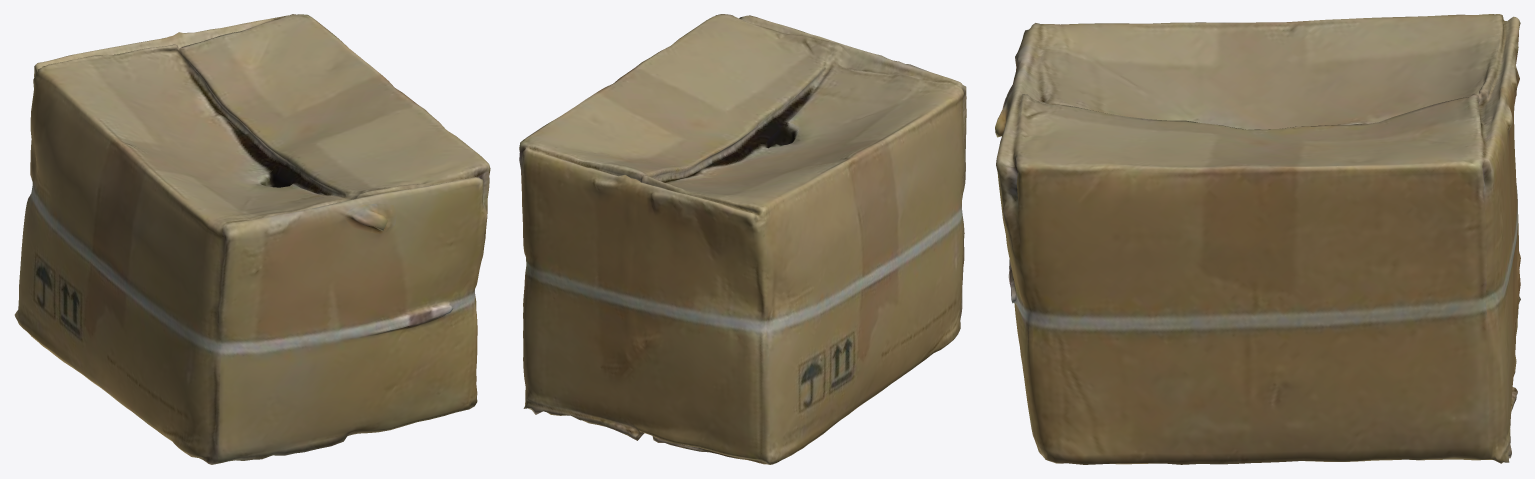
The model's file is cardboard_box.l.8f5a09d0.glb.
The picture shows the model from 3 angles, left to right: view 1: azimuth 30°, elevation 25°; view 2: azimuth 150°, elevation 25°; view 3: azimuth 270°, elevation 25°; orthographic projection. The views are drawn at different scales.
Parts seen in each view (by area): view 1: cardboard_box_01; view 2: cardboard_box_01; view 3: cardboard_box_01.
Part boxes in pixels (<box>): cardboard_box_01: <box>14,14,490,464</box>; cardboard_box_01: <box>519,14,966,464</box>; cardboard_box_01: <box>995,14,1520,464</box>.
Size of the model in its own units: 0.387 by 0.3418 by 0.5159.
Materials: 1 (1 with a texture image).
